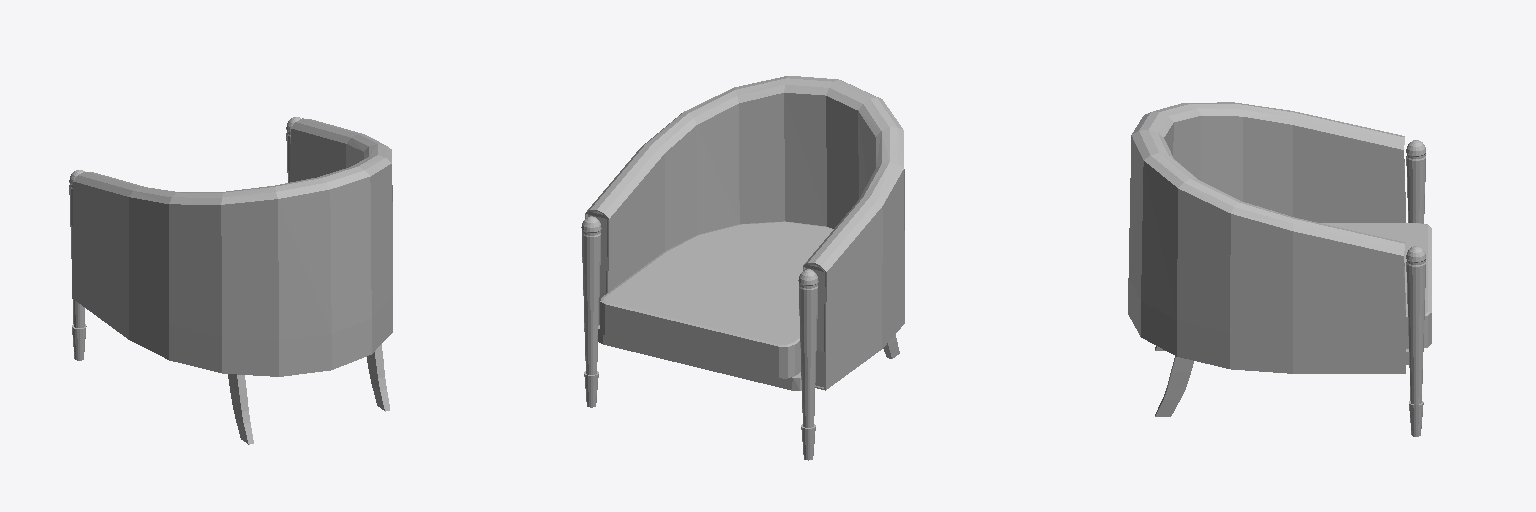
The model's file is armchair02.obj.
3 views of the same model, side by side, from view 1: azimuth 30°, elevation 25°; view 2: azimuth 150°, elevation 25°; view 3: azimuth 270°, elevation 25° (orthographic).
Parts seen in each view (by area): view 1: mesh; view 2: mesh; view 3: mesh.
Boxes of the visible parts, <box> form: mesh: <box>69,117,392,444</box>; mesh: <box>581,76,904,460</box>; mesh: <box>1128,102,1431,436</box>.
Size of the model in its own units: 40.99 by 40.88 by 44.5.